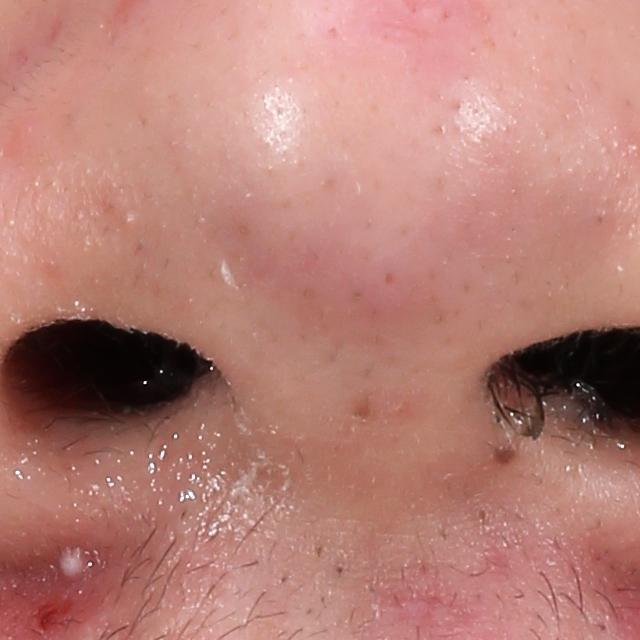comedo: (474, 504, 492, 524), (120, 212, 138, 228)
nevus: (491, 438, 518, 465)
other: (211, 217, 258, 306)
pustule: (52, 542, 94, 584)
